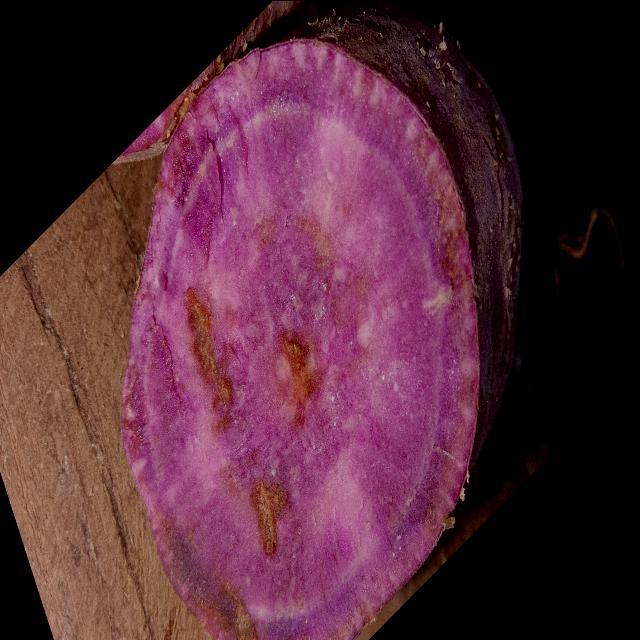Sick Sweet Potato_Tuber Rot: (122, 40, 479, 638)
